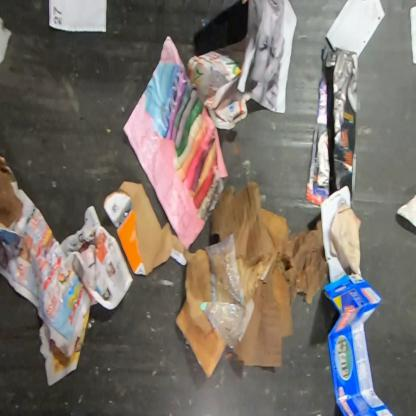cardboard: (175, 180, 328, 379), (323, 272, 389, 416), (102, 179, 186, 276), (0, 154, 36, 237), (328, 202, 362, 274)
